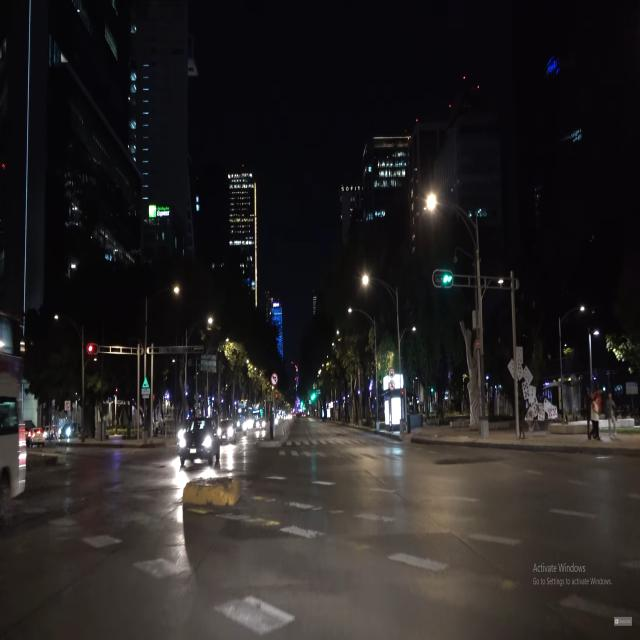headlights: (178, 431, 214, 458), (214, 419, 239, 440)
